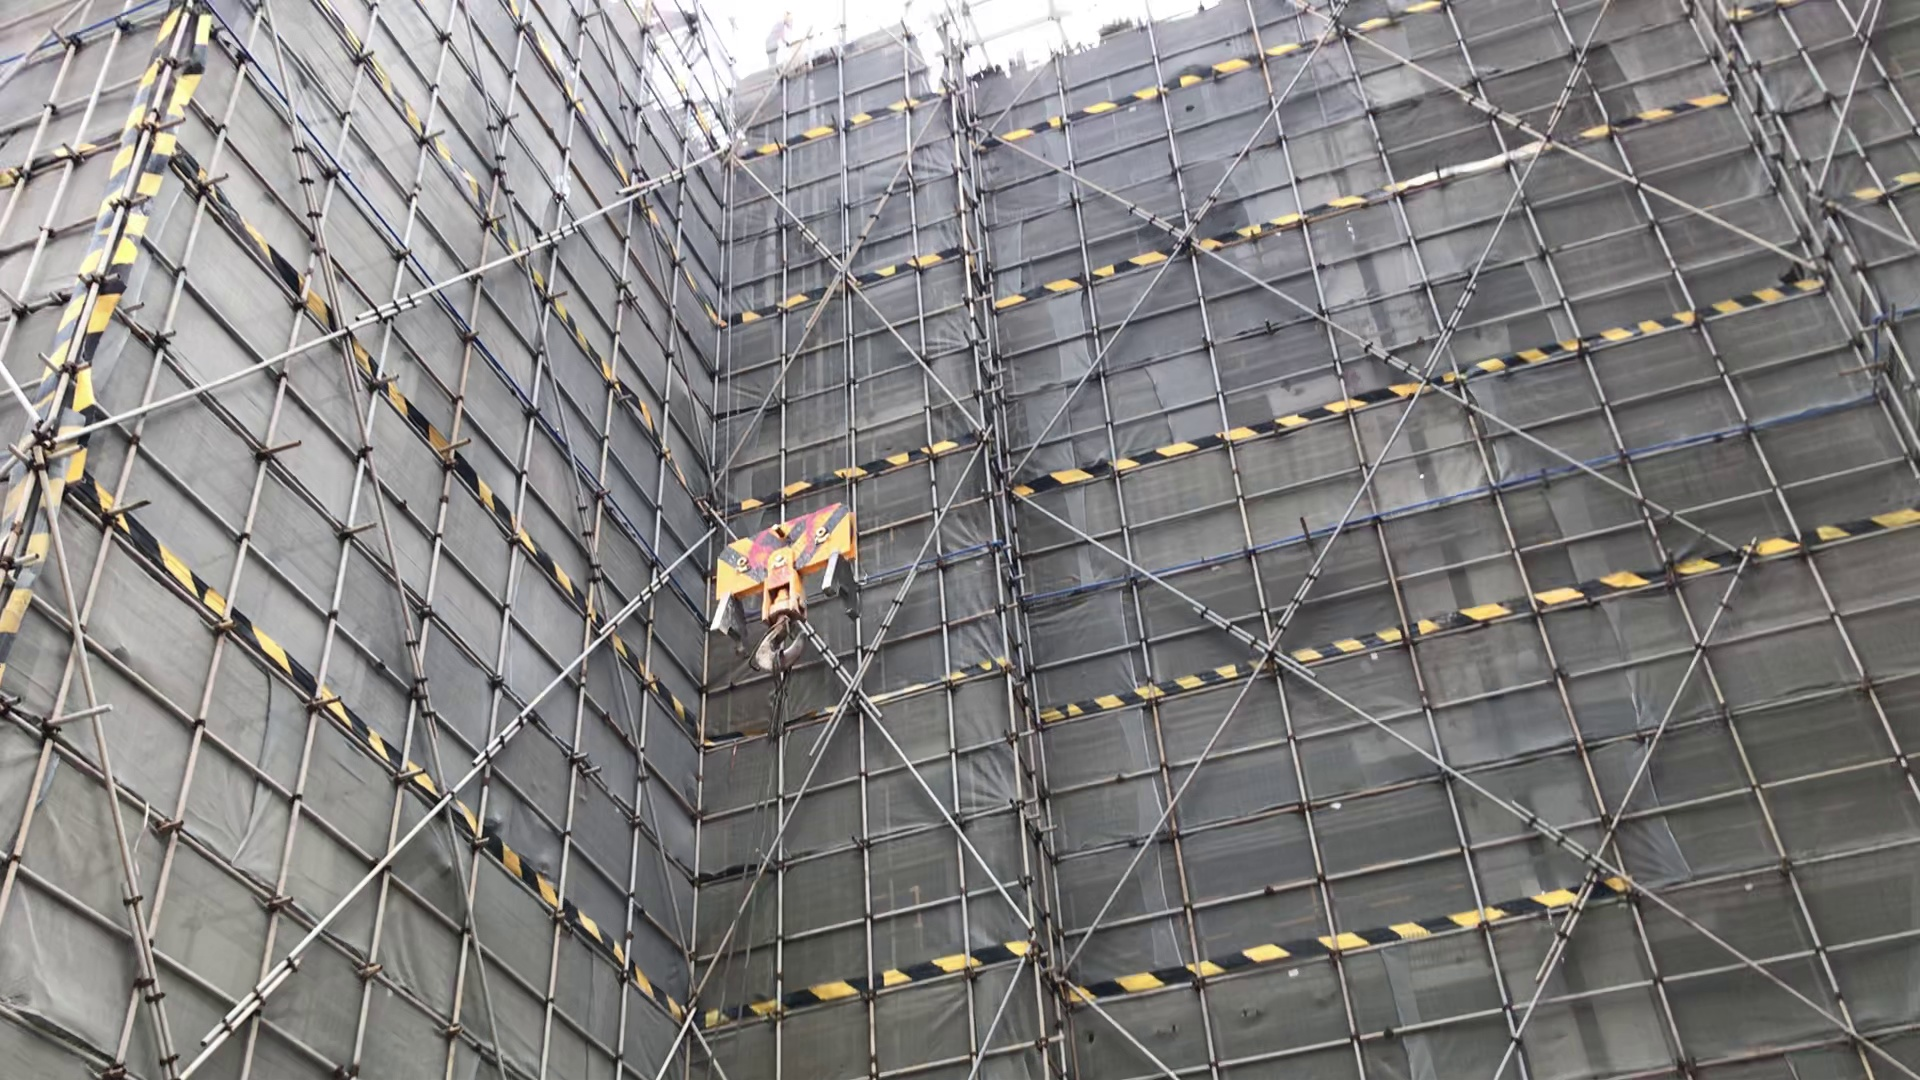hook: (715, 497, 869, 673)
